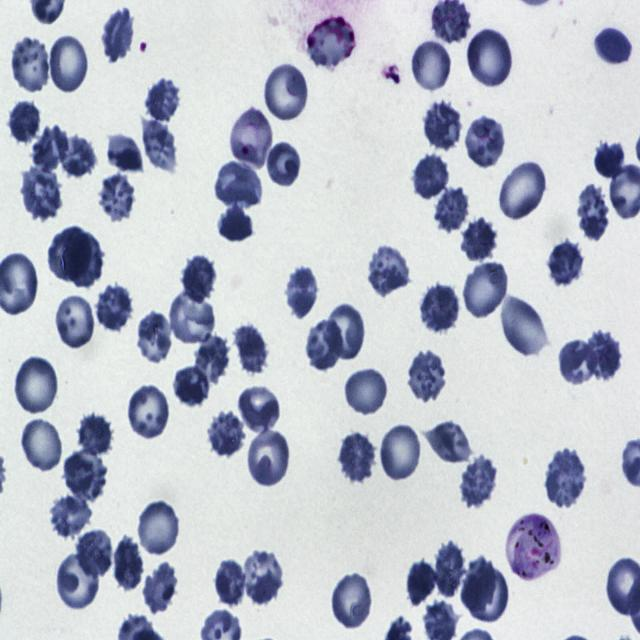red blood cell: (499, 293, 549, 359), (498, 158, 548, 222), (466, 26, 515, 91), (229, 105, 274, 173), (462, 258, 510, 321), (305, 13, 357, 71), (12, 354, 60, 416), (264, 61, 310, 125), (54, 549, 100, 611), (246, 426, 291, 488), (47, 33, 90, 96), (464, 564, 509, 624), (379, 421, 423, 482), (126, 382, 172, 440), (544, 448, 588, 508), (136, 499, 181, 557), (46, 225, 91, 283), (324, 301, 367, 361), (332, 570, 374, 631), (20, 417, 64, 474), (62, 449, 108, 503), (168, 291, 214, 344), (53, 294, 97, 349), (241, 548, 284, 604), (366, 243, 411, 296), (61, 231, 104, 286), (215, 160, 263, 209), (424, 419, 473, 467), (19, 167, 62, 221), (9, 36, 49, 94), (411, 38, 452, 94), (238, 383, 282, 435), (464, 114, 506, 168), (345, 366, 389, 416), (407, 349, 447, 404), (424, 98, 464, 152), (432, 539, 468, 599), (460, 556, 497, 614), (142, 558, 180, 614), (100, 4, 136, 63), (575, 184, 611, 243), (459, 455, 499, 508), (192, 331, 232, 384), (206, 409, 248, 459), (140, 118, 178, 173), (338, 429, 377, 482), (136, 309, 172, 366), (420, 284, 460, 334), (54, 135, 98, 180), (584, 328, 622, 380), (547, 238, 586, 288), (284, 266, 320, 320), (458, 215, 498, 263), (232, 322, 268, 375), (98, 174, 136, 224), (171, 363, 212, 409), (76, 529, 114, 578), (31, 124, 69, 173), (50, 494, 94, 536), (413, 153, 451, 201), (96, 284, 133, 333), (266, 140, 302, 190), (112, 537, 144, 593), (212, 558, 247, 609), (558, 342, 600, 384), (76, 412, 114, 457), (181, 254, 216, 302), (7, 98, 42, 146), (593, 26, 634, 66), (216, 202, 256, 243), (307, 322, 341, 370), (434, 186, 469, 232), (106, 133, 144, 175), (406, 560, 439, 608), (145, 77, 180, 122), (593, 141, 626, 179)
trophozoite: (507, 514, 561, 580)
